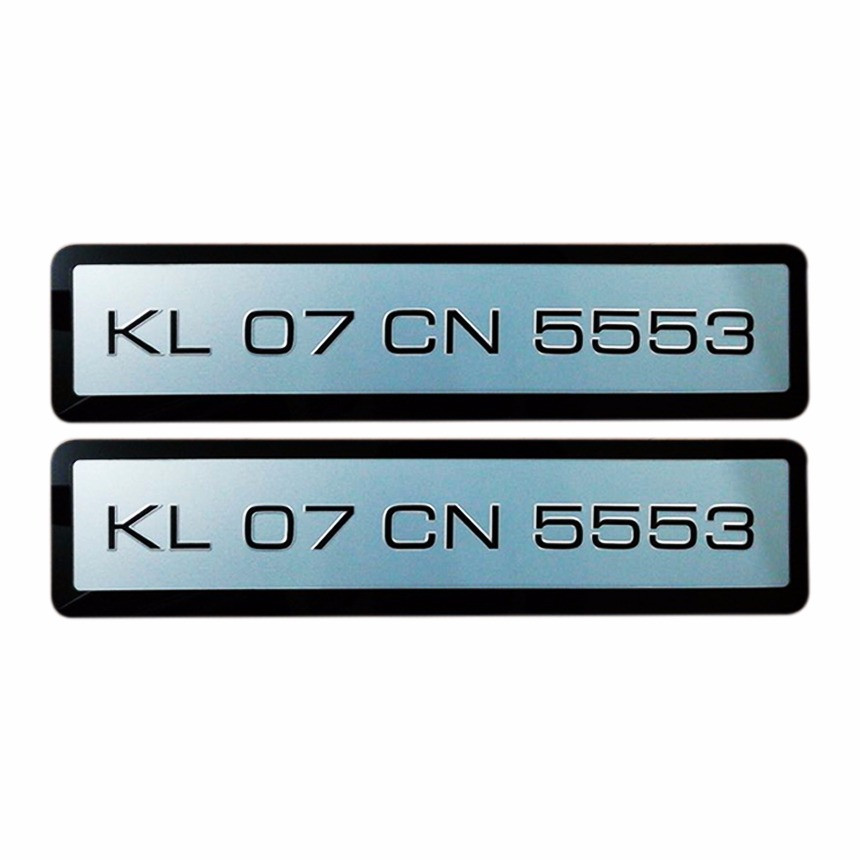number_plate: (50, 239, 814, 428), (50, 436, 813, 620)
